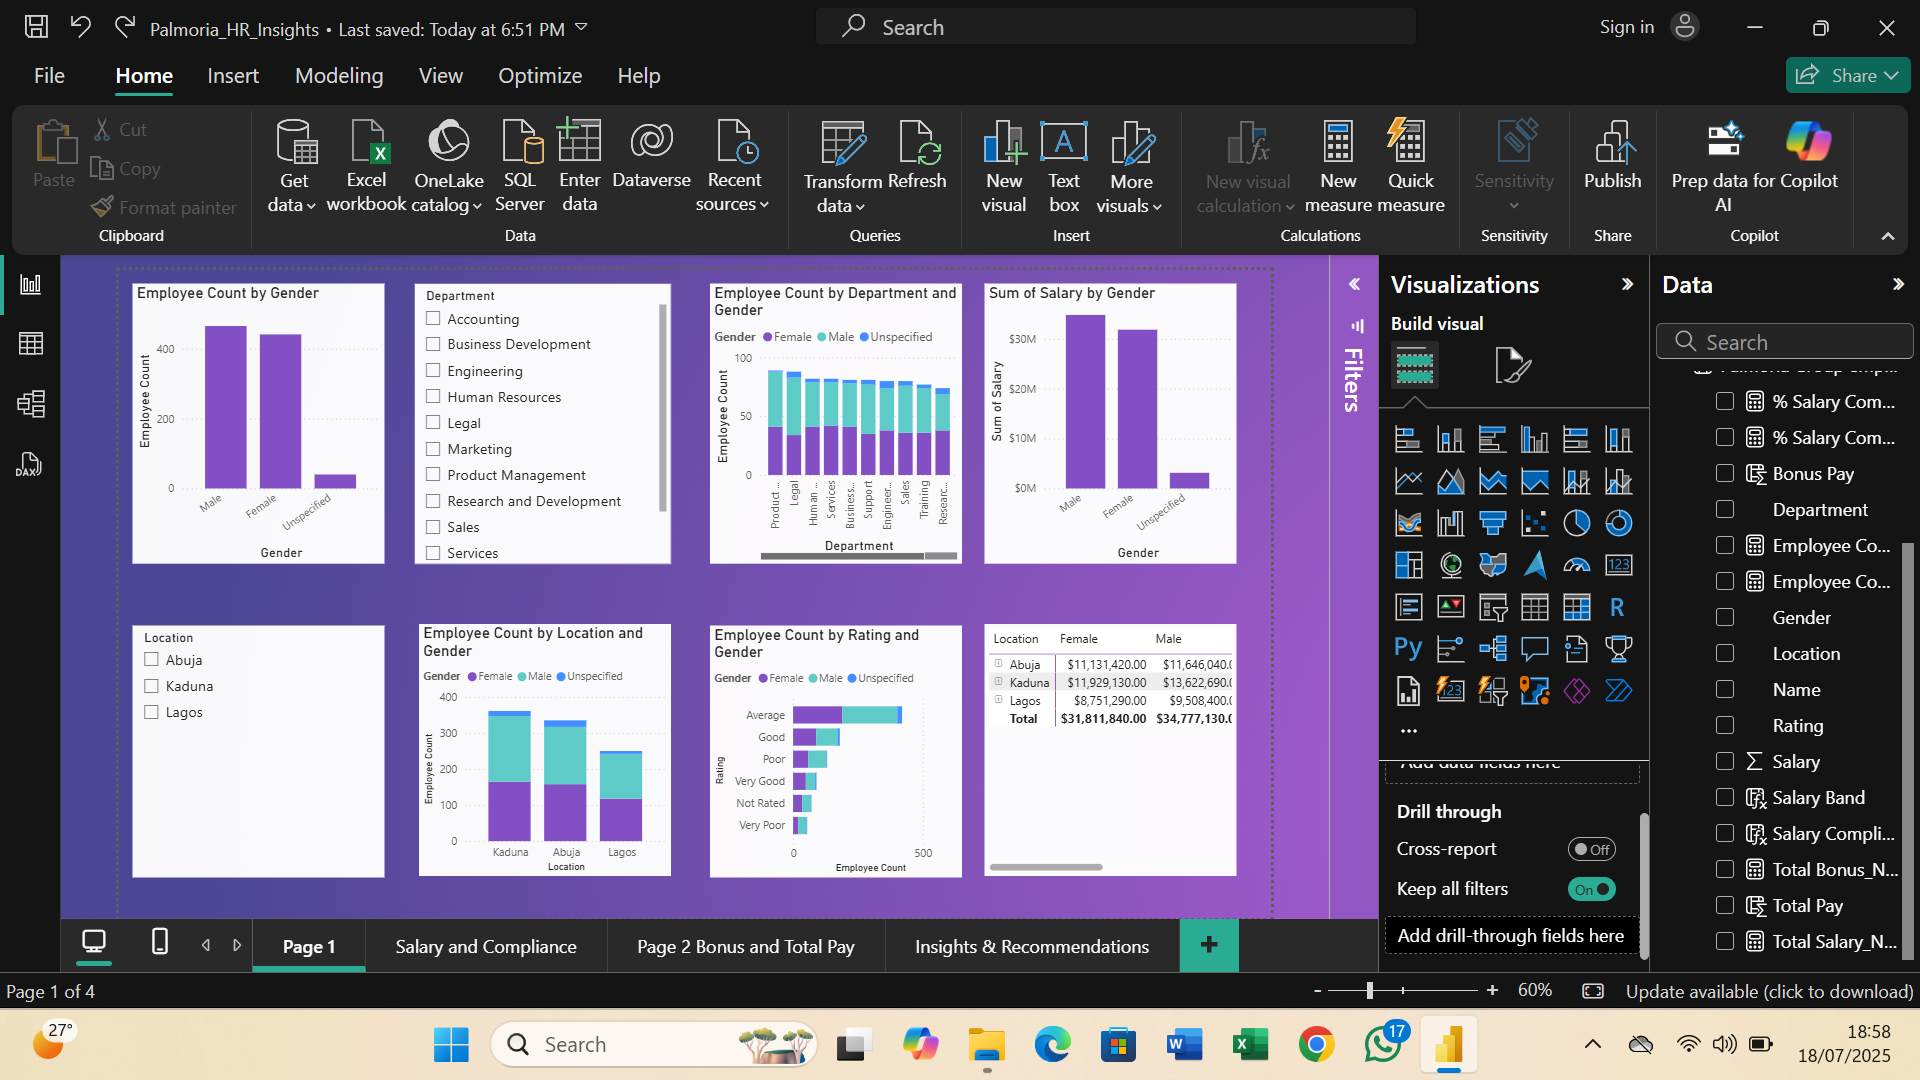

What the dashboard file says about the page in this screenshot:
{"tool":"powerbi","page":{"name":"Page 1","canvas":[1280,720],"ordinal":0},"visuals":[{"type":"columnChart","fields":{"Category":["Palmoria Group emp-data (1).Gender"],"Y":["Palmoria Group emp-data (1).Employee Count"]},"box":[14.9,14.9,279.9,311.4],"z":0},{"type":"slicer","fields":{"Values":["Palmoria Group emp-data (1).Location"]},"box":[14.9,394.2,279.9,279.9],"z":1000},{"type":"slicer","fields":{"Values":["Palmoria Group emp-data (1).Department"]},"box":[328,14.9,284.9,311.4],"z":2000},{"type":"columnChart","fields":{"Category":["Palmoria Group emp-data (1).Location"],"Series":["Palmoria Group emp-data (1).Gender"],"Y":["Palmoria Group emp-data (1).Employee Count"]},"box":[333,392.6,279.9,279.9],"z":3000},{"type":"columnChart","fields":{"Category":["Palmoria Group emp-data (1).Department"],"Series":["Palmoria Group emp-data (1).Gender"],"Y":["Palmoria Group emp-data (1).Employee Count"]},"box":[656,14.9,279.9,311.4],"z":4000},{"type":"barChart","fields":{"Category":["Palmoria Group emp-data (1).Rating"],"Y":["Palmoria Group emp-data (1).Employee Count"],"Series":["Palmoria Group emp-data (1).Gender"]},"box":[656,394.2,279.9,279.9],"z":5000},{"type":"clusteredColumnChart","fields":{"Category":["Palmoria Group emp-data (1).Gender"],"Y":["Sum(Palmoria Group emp-data (1).Salary)"]},"box":[962.4,14.9,279.9,311.4],"z":6000},{"type":"pivotTable","fields":{"Rows":["Palmoria Group emp-data (1).Location","Palmoria Group emp-data (1).Department"],"Columns":["Palmoria Group emp-data (1).Gender"],"Values":["Sum(Palmoria Group emp-data (1).Salary)"]},"box":[962.4,392.6,279.9,279.9],"z":7000}]}

Visuals, with their boxes on the page's 1280x720 design canvas (x1, y1, x2, y2). These are canvas units, not pixel positions in the 1920x1080 screenshot, which may show the page scaled, cropped or inside an application window:
columnChart - Palmoria Group emp-data (1).Gender x Palmoria Group emp-data (1).Employee Count: bbox(15, 15, 295, 326)
slicer - Palmoria Group emp-data (1).Location: bbox(15, 394, 295, 674)
slicer - Palmoria Group emp-data (1).Department: bbox(328, 15, 613, 326)
columnChart - Palmoria Group emp-data (1).Location x Palmoria Group emp-data (1).Gender: bbox(333, 393, 613, 672)
columnChart - Palmoria Group emp-data (1).Department x Palmoria Group emp-data (1).Gender: bbox(656, 15, 936, 326)
barChart - Palmoria Group emp-data (1).Rating x Palmoria Group emp-data (1).Employee Count: bbox(656, 394, 936, 674)
clusteredColumnChart - Palmoria Group emp-data (1).Gender x Sum(Palmoria Group emp-data (1).Salary): bbox(962, 15, 1242, 326)
pivotTable - Palmoria Group emp-data (1).Location x Palmoria Group emp-data (1).Department: bbox(962, 393, 1242, 672)
